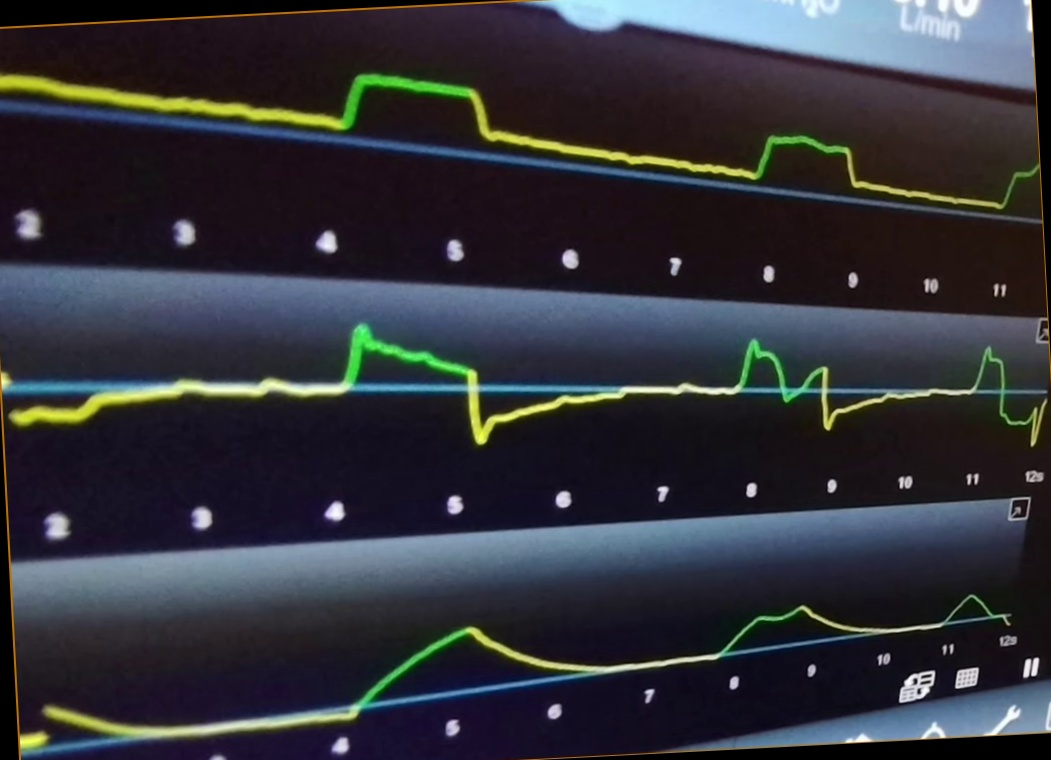Double_Triggering Flow: (32, 315, 1046, 448)
Double_Triggering Volume: (61, 595, 1012, 736)
